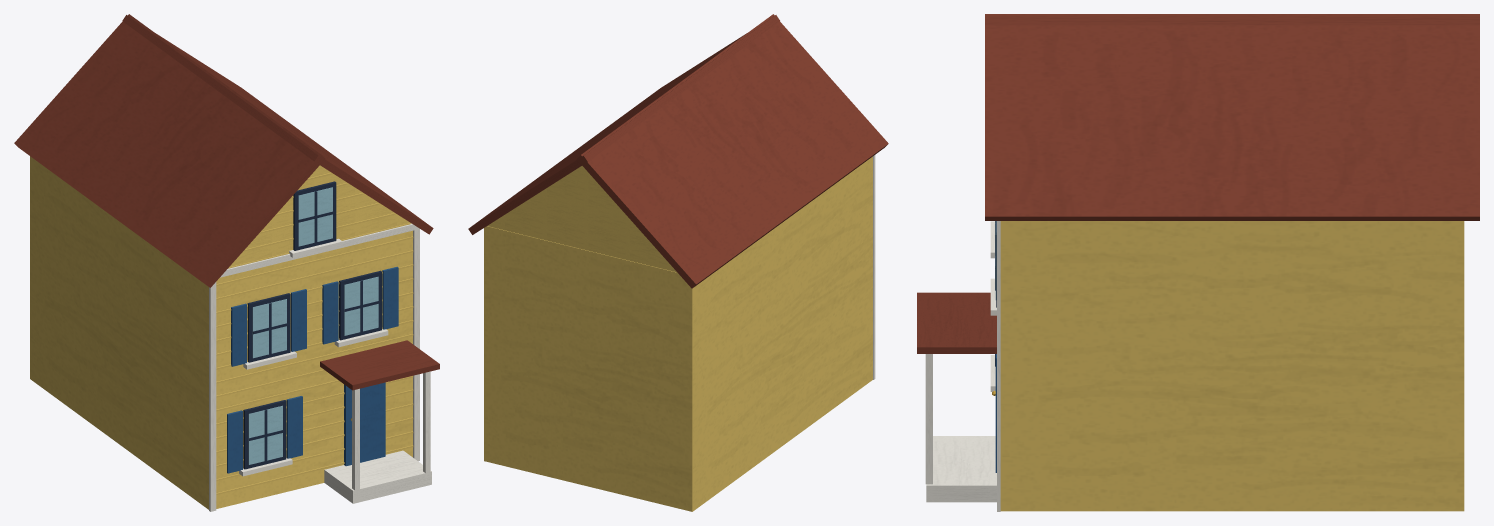
File: townhouse_yellow.glb
The picture shows the model from 3 angles, left to right: view 1: azimuth 30°, elevation 25°; view 2: azimuth 150°, elevation 25°; view 3: azimuth 270°, elevation 25°; orthographic projection. The views are drawn at different scales.
Visible parts, largest first — view 1: townhouse; view 2: townhouse; view 3: townhouse.
Part boxes in pixels (x1,y1,x2,y2): townhouse: (14,14,439,511); townhouse: (468,14,888,511); townhouse: (917,14,1479,511).
Bounding box in the file's own units: 5.47 × 7.69 × 9.1.
11 materials, 11 textured.
